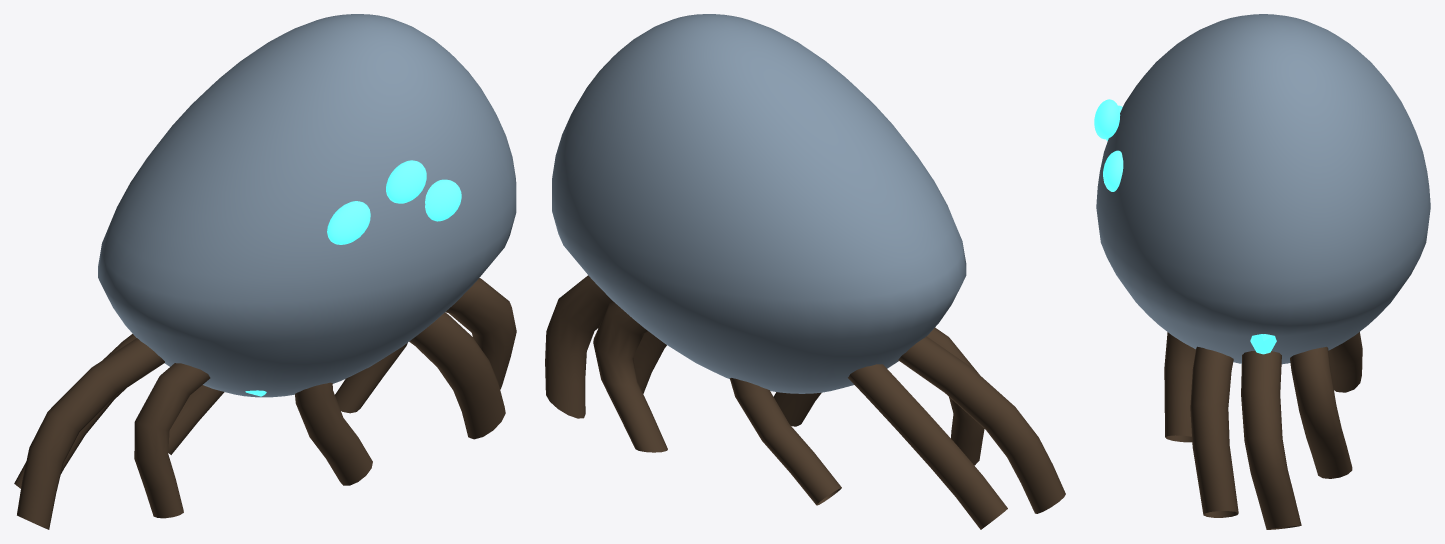
File: aberration_v7.glb
3 renders of one model, left to right at view 1: azimuth 30°, elevation 25°; view 2: azimuth 150°, elevation 25°; view 3: azimuth 270°, elevation 25°, orthographic. The views are drawn at different scales.
Parts seen in each view (by area): view 1: ABERRANT_BODY_PRIMARY, TENTACLE_SECONDARY.004, TENTACLE_SECONDARY.005, TENTACLE_SECONDARY.007, TENTACLE_SECONDARY.006, TENTACLE_SECONDARY, TENTACLE_SECONDARY.001, TENTACLE_SECONDARY.002, EYE_EMISSIVE, EYE_EMISSIVE.001, EYE_EMISSIVE.002, TENTACLE_SECONDARY.003; view 2: ABERRANT_BODY_PRIMARY, TENTACLE_SECONDARY.004, TENTACLE_SECONDARY.003, TENTACLE_SECONDARY, TENTACLE_SECONDARY.001, TENTACLE_SECONDARY.002, TENTACLE_SECONDARY.005, TENTACLE_SECONDARY.007, TENTACLE_SECONDARY.006; view 3: ABERRANT_BODY_PRIMARY, TENTACLE_SECONDARY, TENTACLE_SECONDARY.007, TENTACLE_SECONDARY.001, TENTACLE_SECONDARY.006, TENTACLE_SECONDARY.002, EYE_EMISSIVE.001, EYE_EMISSIVE.002, ORBIT_SHARD_EMISSIVE.
Boxes of the visible parts, x1,y1,x2,y2 form: ABERRANT_BODY_PRIMARY: [98, 14, 516, 397]; TENTACLE_SECONDARY.004: [17, 338, 164, 529]; TENTACLE_SECONDARY.005: [134, 363, 210, 518]; TENTACLE_SECONDARY.007: [409, 312, 505, 439]; TENTACLE_SECONDARY.006: [295, 382, 372, 485]; TENTACLE_SECONDARY: [445, 278, 516, 389]; TENTACLE_SECONDARY.001: [335, 343, 407, 413]; TENTACLE_SECONDARY.002: [168, 385, 224, 454]; EYE_EMISSIVE: [327, 201, 370, 244]; EYE_EMISSIVE.001: [386, 160, 426, 203]; EYE_EMISSIVE.002: [425, 179, 461, 221]; TENTACLE_SECONDARY.003: [14, 333, 136, 488]; ABERRANT_BODY_PRIMARY: [552, 14, 966, 393]; TENTACLE_SECONDARY.004: [898, 336, 1065, 513]; TENTACLE_SECONDARY.003: [848, 364, 1007, 529]; TENTACLE_SECONDARY: [545, 275, 612, 418]; TENTACLE_SECONDARY.001: [593, 301, 667, 452]; TENTACLE_SECONDARY.002: [730, 378, 841, 505]; TENTACLE_SECONDARY.005: [927, 327, 984, 465]; TENTACLE_SECONDARY.007: [633, 331, 666, 393]; TENTACLE_SECONDARY.006: [773, 392, 821, 426]; ABERRANT_BODY_PRIMARY: [1096, 14, 1430, 364]; TENTACLE_SECONDARY: [1241, 351, 1301, 529]; TENTACLE_SECONDARY.007: [1190, 346, 1238, 517]; TENTACLE_SECONDARY.001: [1290, 346, 1352, 478]; TENTACLE_SECONDARY.006: [1164, 332, 1195, 442]; TENTACLE_SECONDARY.002: [1328, 332, 1362, 392]; EYE_EMISSIVE.001: [1094, 99, 1120, 139]; EYE_EMISSIVE.002: [1103, 150, 1123, 191]; ORBIT_SHARD_EMISSIVE: [1250, 334, 1276, 354].
Size of the model in its own units: 2.45 by 1.94 by 1.34.
